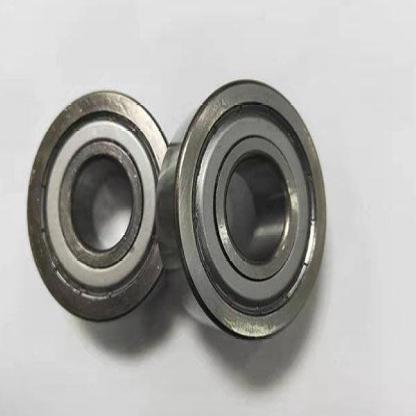FOD: (154, 70, 330, 347), (24, 86, 189, 330)
